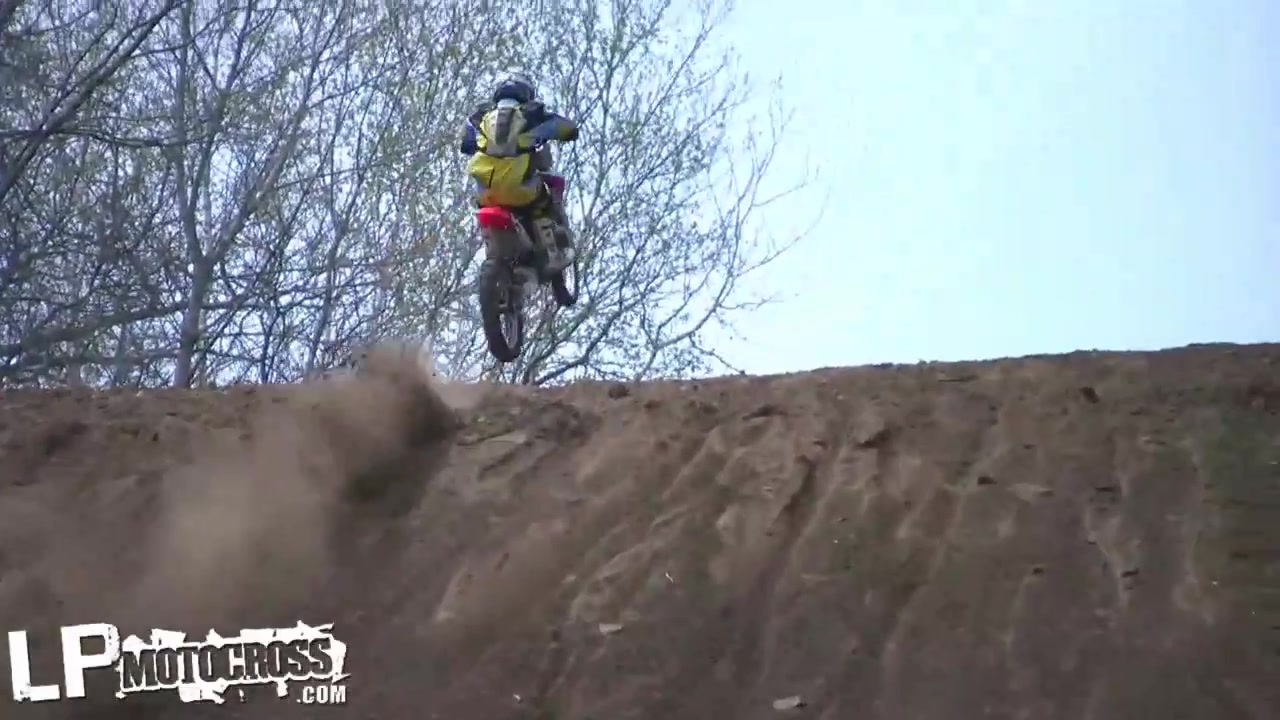motorbike: (479, 151, 581, 368)
